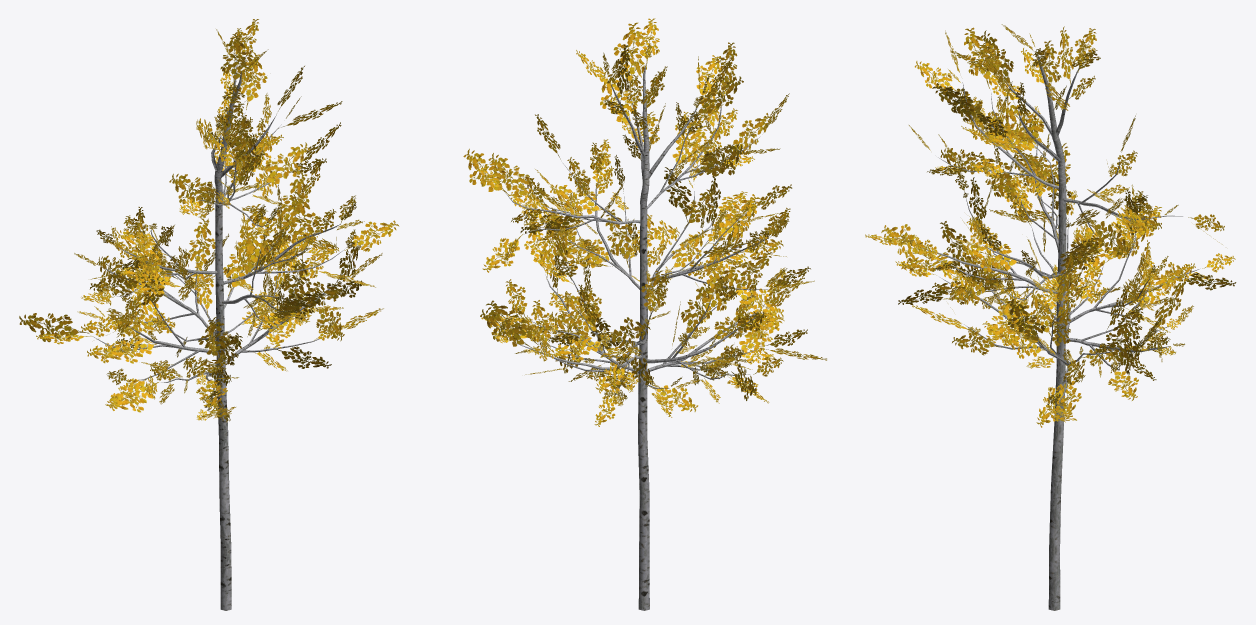
File: aspen_coarse.glb
The picture shows the model from 3 angles, left to right: view 1: azimuth 30°, elevation 25°; view 2: azimuth 150°, elevation 25°; view 3: azimuth 270°, elevation 25°; orthographic projection. The views are drawn at different scales.
Parts seen in each view (by area): view 1: Tree; view 2: Tree; view 3: Tree.
Boxes of the visible parts, bbox=[...] form: Tree: bbox=[19, 19, 399, 610]; Tree: bbox=[463, 18, 826, 610]; Tree: bbox=[865, 24, 1236, 610].
Bounding box in the file's own units: 42.23 × 71.07 × 40.89.
Materials: 2 (2 with a texture image).
